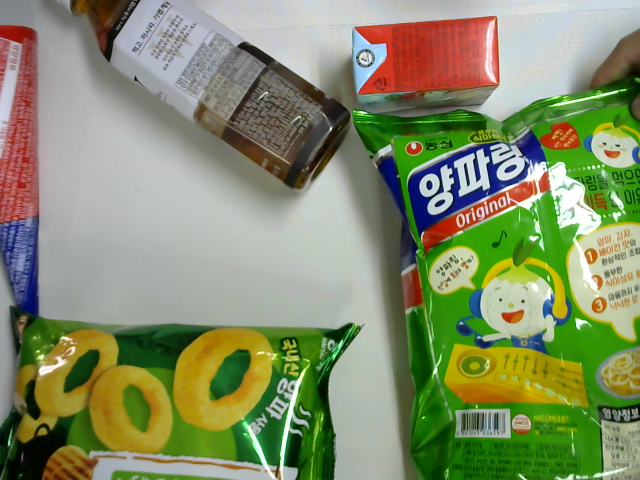Grilled_Onions: (1, 304, 362, 480)
Oninon_Ring: (343, 84, 640, 480)
Picnic_Apple: (346, 13, 506, 113)
Post-meal_recipe_W_tea_500ml: (56, 1, 350, 194)
World_Cone_Banila: (1, 23, 40, 327)
